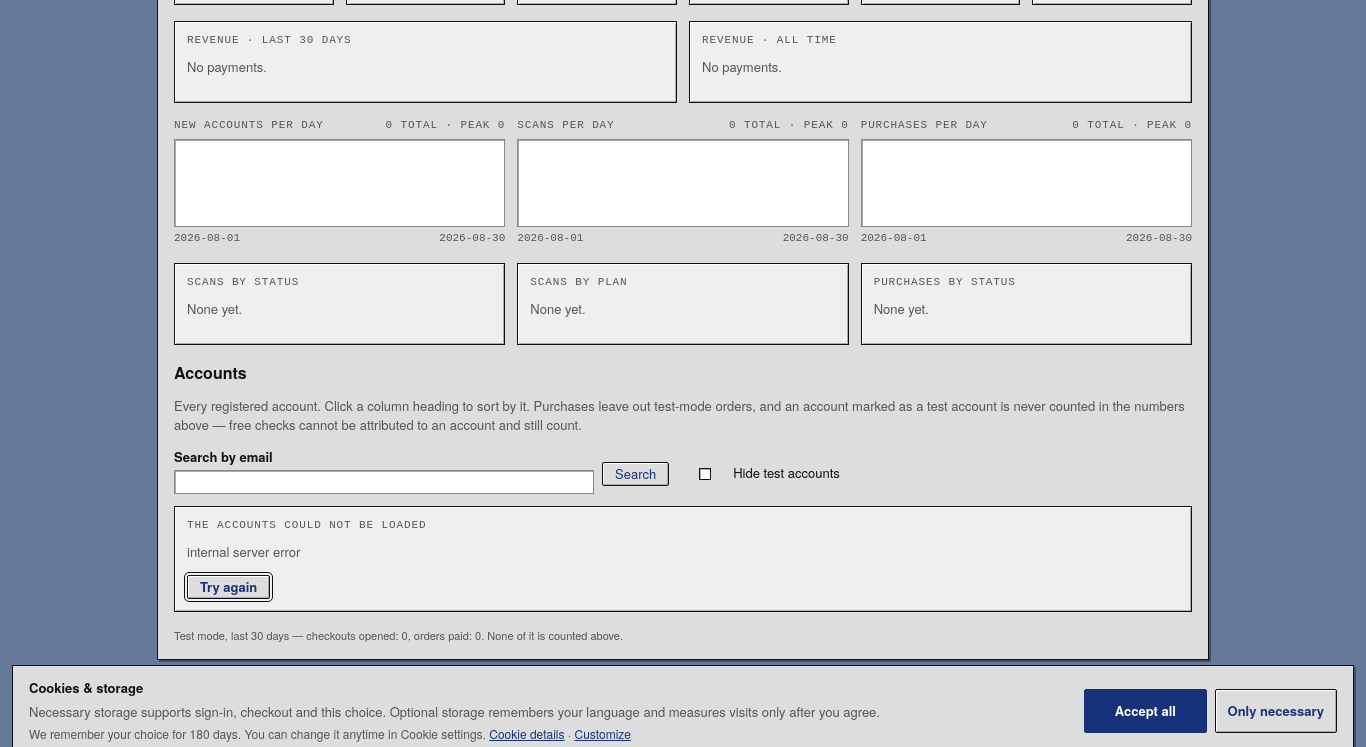
Test: owner dashboard accounts list › offers another try when the server fails, and draws the list once it answers
The image size is (1366, 747).
(page scrolled)
Expected: the text "The accounts could not be loaded" is shown, [187,519,426,531]
Click the button "Try again" at (229, 586), box [187,574,270,598]
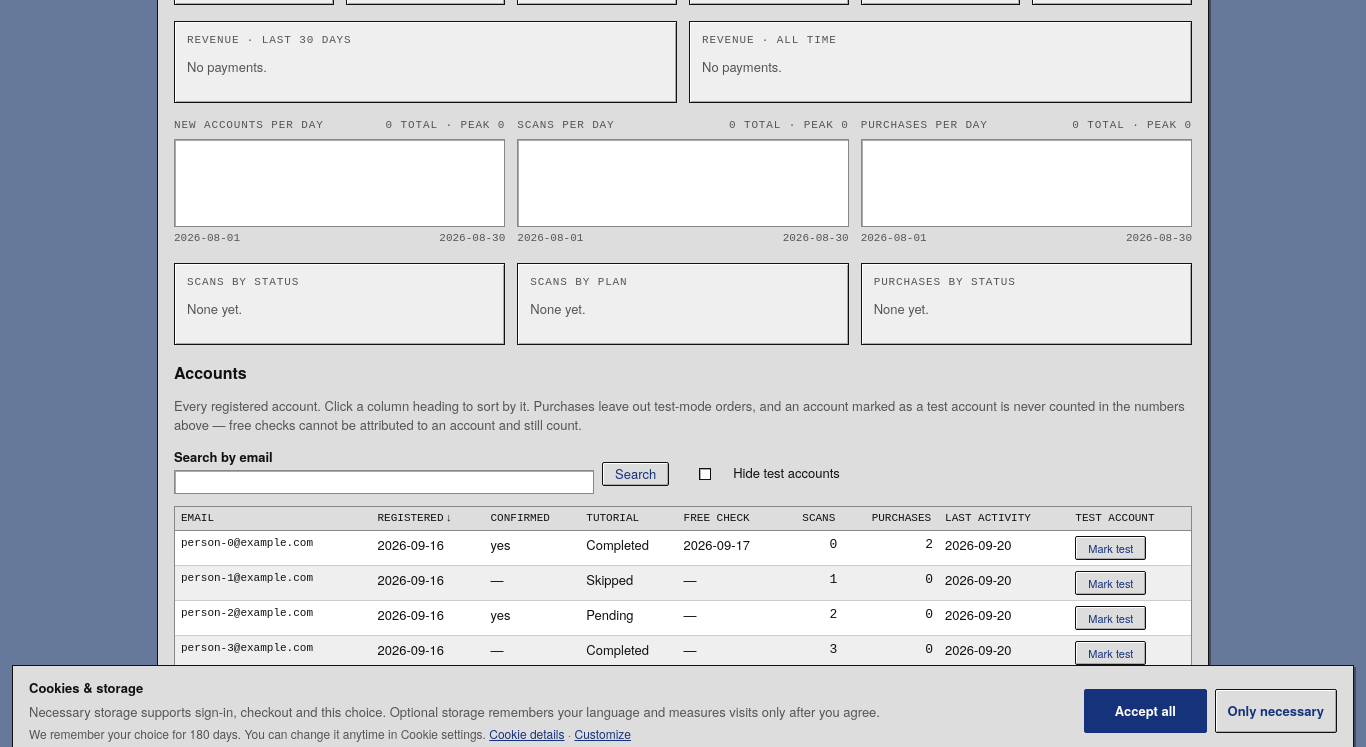
Expected: the text "person-0@example.com" is shown, [175,531,372,566]
